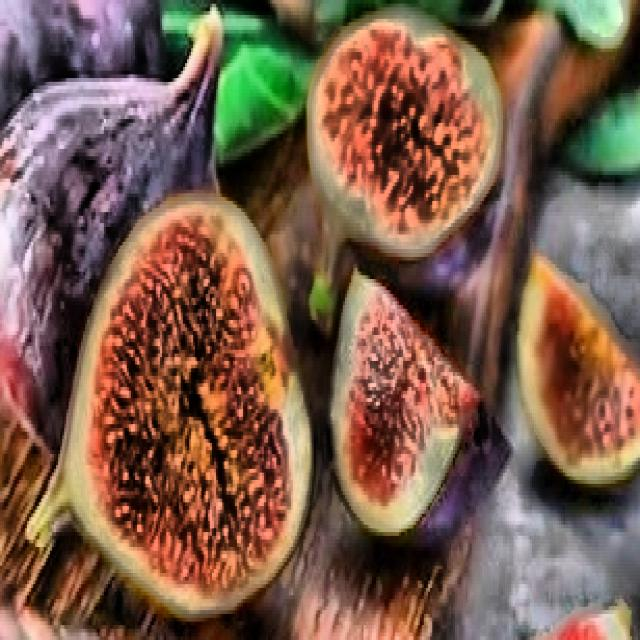Fruit: (0, 0, 538, 573)
